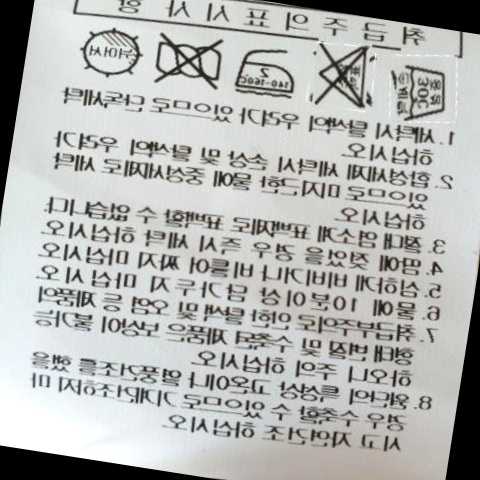DN_wring: (141, 27, 230, 95)
dry_flat_in_shade: (70, 20, 145, 82)
hand_wash: (376, 51, 455, 128)
iron_medium: (229, 43, 300, 101)
non_chlorine_bleach: (305, 40, 380, 117)
